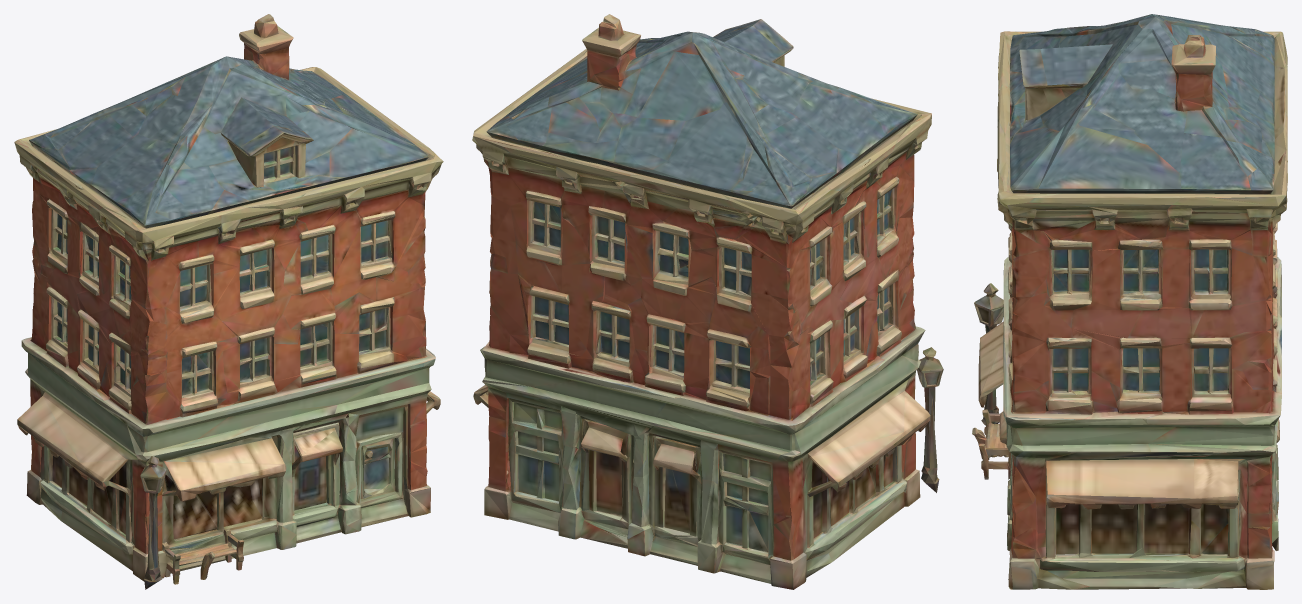
The model's file is town_shops_offices_2.glb.
3 views of the same model, side by side, from view 1: azimuth 30°, elevation 25°; view 2: azimuth 150°, elevation 25°; view 3: azimuth 270°, elevation 25° (orthographic). The views are drawn at different scales.
Parts seen in each view (by area): view 1: normalize; view 2: normalize; view 3: normalize.
Boxes of the visible parts, bbox=[...] form: normalize: bbox=[14, 14, 443, 589]; normalize: bbox=[472, 14, 943, 589]; normalize: bbox=[972, 14, 1287, 589].
Size of the model in its own units: 1 by 1.28 by 0.7198.
Materials: 1 (1 with a texture image).
